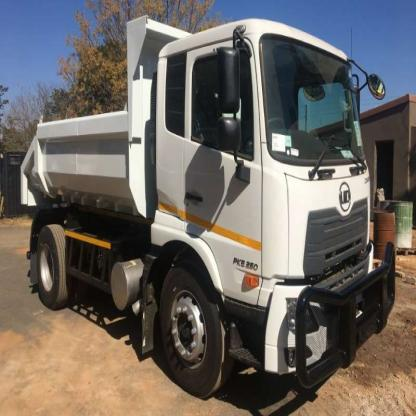dump_truck: (10, 10, 402, 404)
